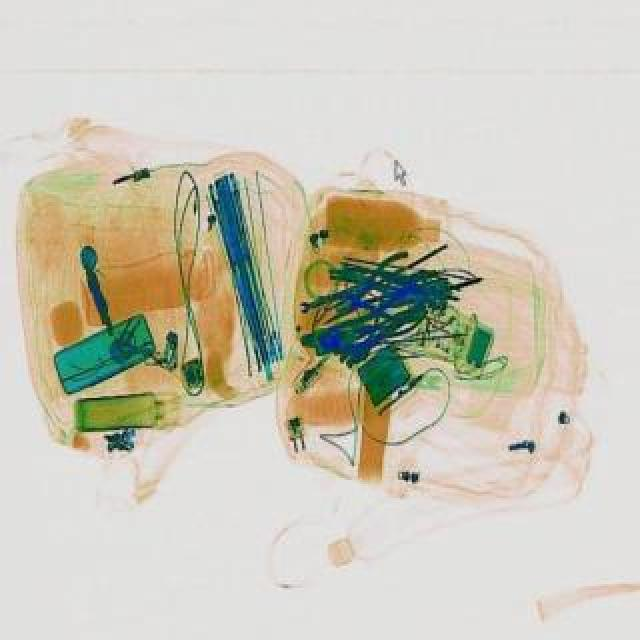wrench: (308, 248, 428, 342), (316, 252, 446, 328)
